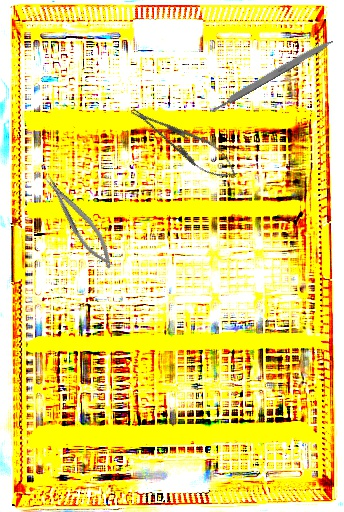Needle Holder: (124, 97, 245, 188), (39, 168, 121, 275)
Scalpel Handle: (210, 36, 335, 113)
